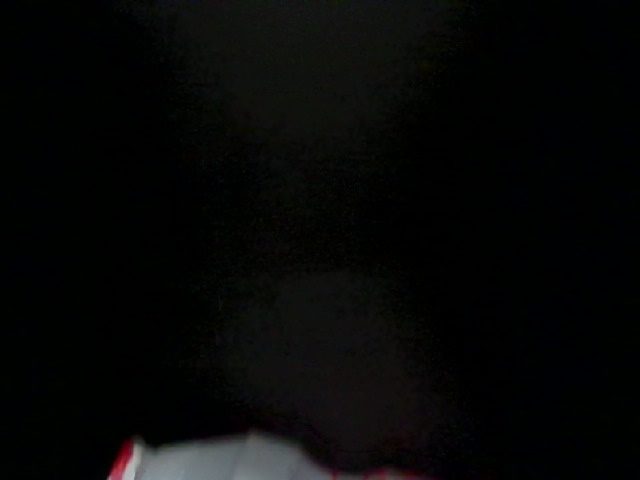CYLJ: (25, 145, 363, 459)
